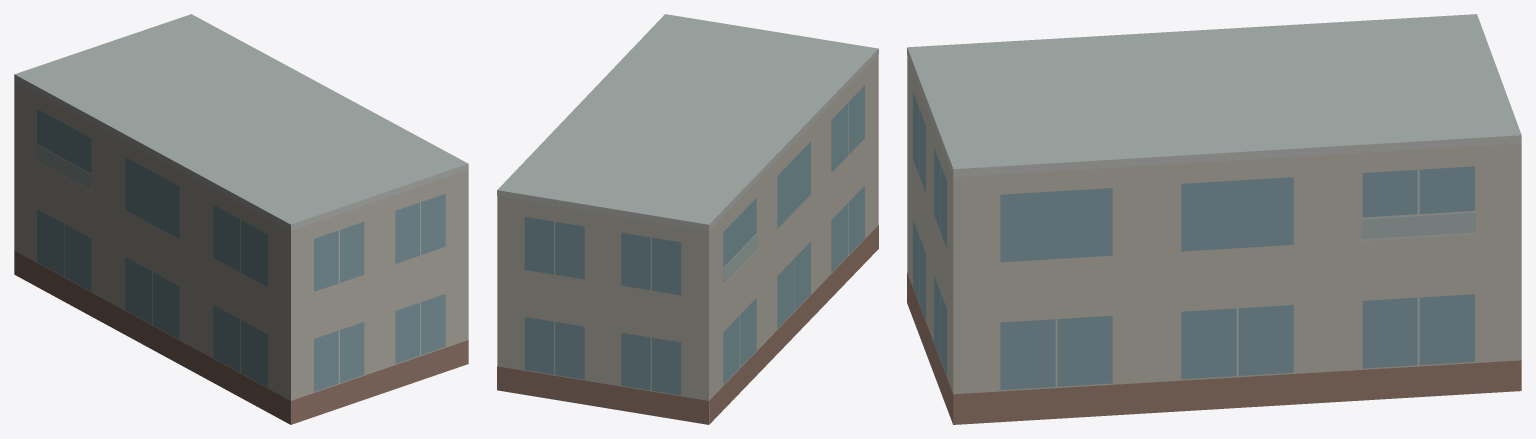
The model's file is survey-upis-32702225.glb.
3 renders of one model, left to right at view 1: azimuth 30°, elevation 25°; view 2: azimuth 150°, elevation 25°; view 3: azimuth 270°, elevation 25°, orthographic. The views are drawn at different scales.
Parts seen in each view (by area): view 1: survey-upis-32702225.tmp; view 2: survey-upis-32702225.tmp; view 3: survey-upis-32702225.tmp.
Part boxes in pixels (<box>): survey-upis-32702225.tmp: <box>14,14,468,424</box>; survey-upis-32702225.tmp: <box>497,14,878,424</box>; survey-upis-32702225.tmp: <box>907,14,1521,424</box>.
Size of the model in its own units: 10.16 by 7.8 by 17.
